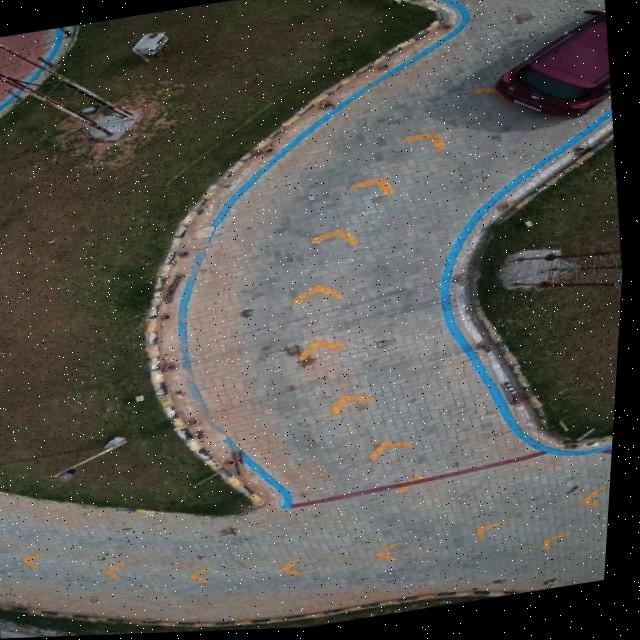car: (497, 14, 612, 121)
